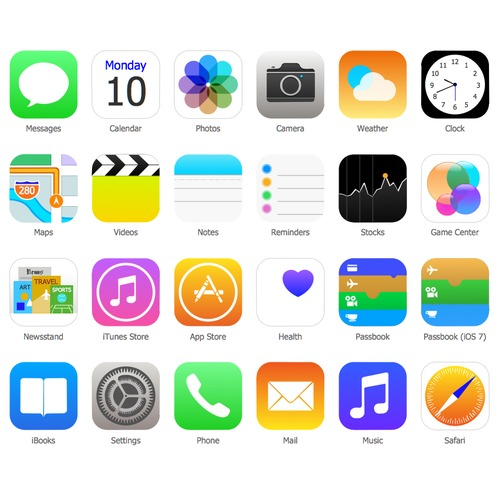calendar: (90, 48, 161, 121)
camera: (256, 50, 325, 118)
clock: (420, 49, 489, 119)
mail: (257, 360, 324, 431)
message: (8, 49, 78, 119)
phone: (173, 362, 242, 431)
